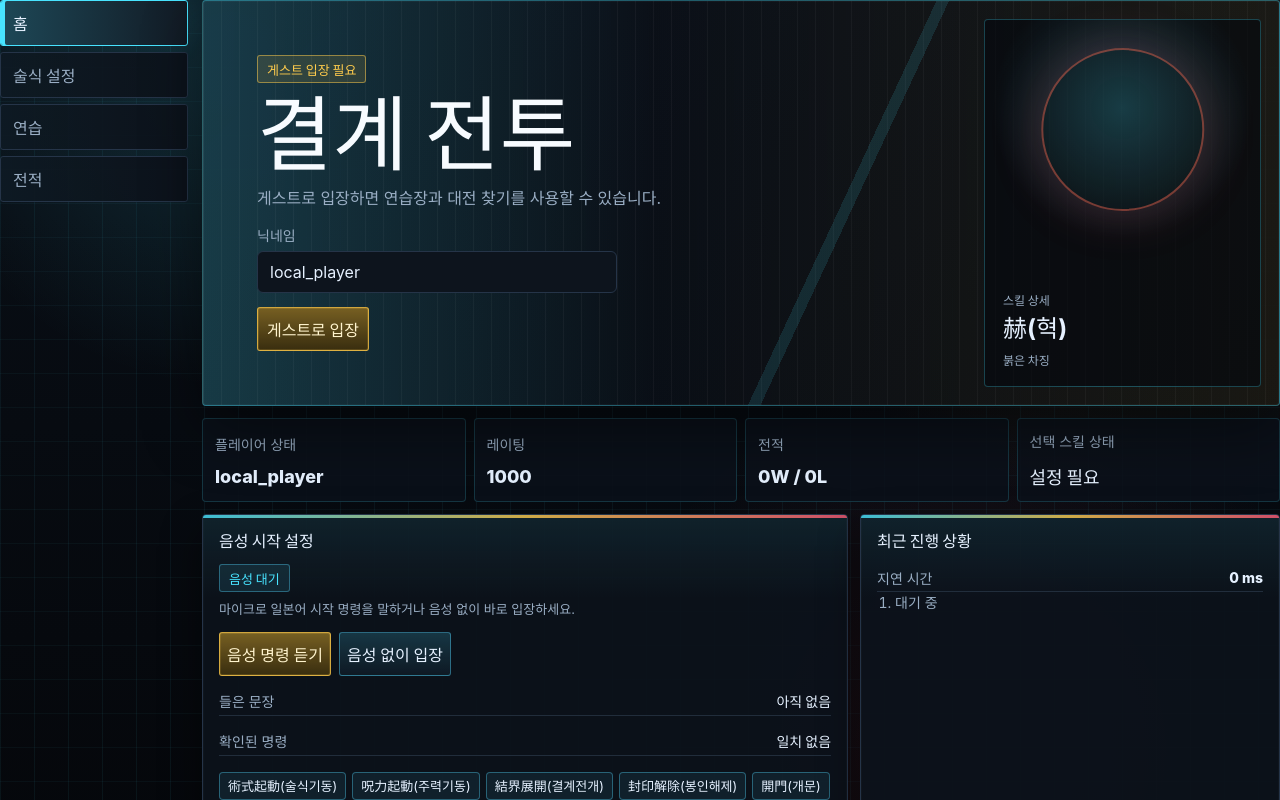
BattleGameWorkspace › blocks practice room navigation until a player session exists
Click the button "연습" at (94, 127), box [0, 104, 188, 150]
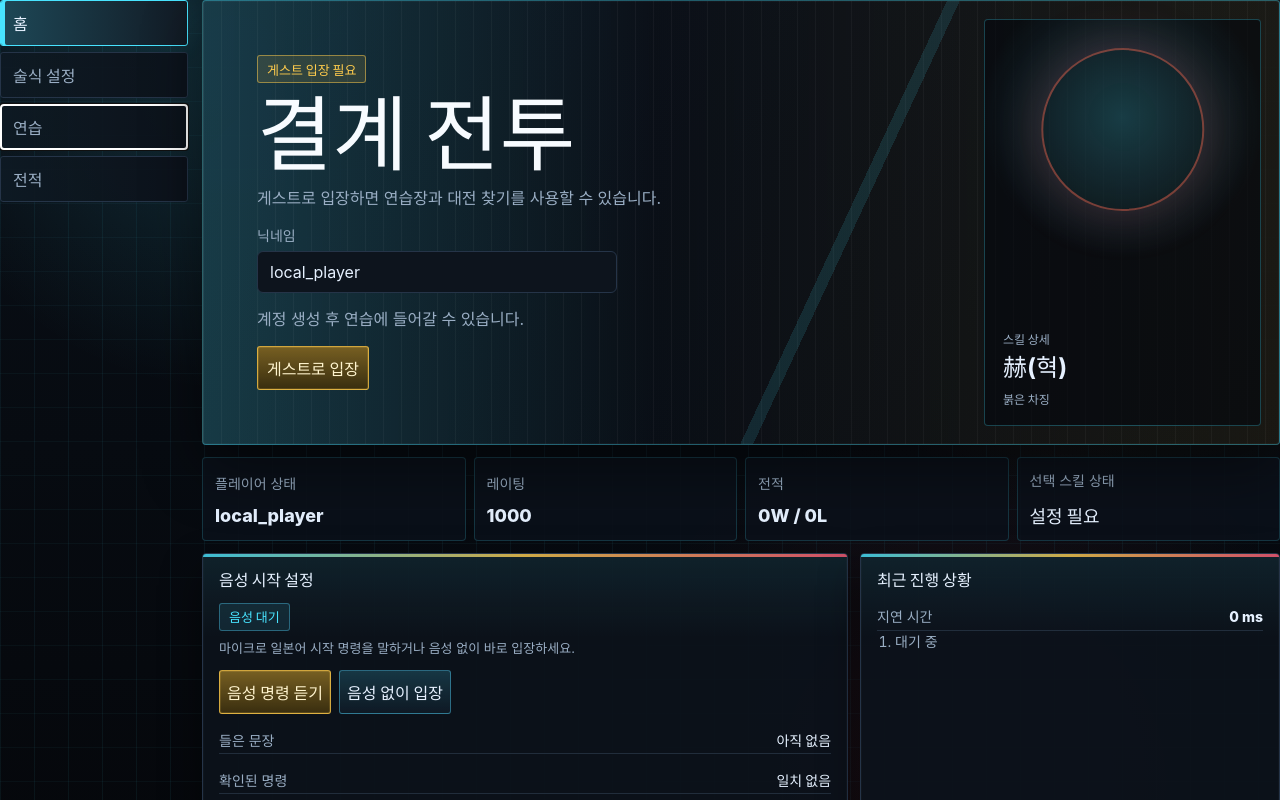
Expected: the text "계정 생성 후 연습에 들어갈 수 있습니다." is shown, [257, 309, 524, 329]
